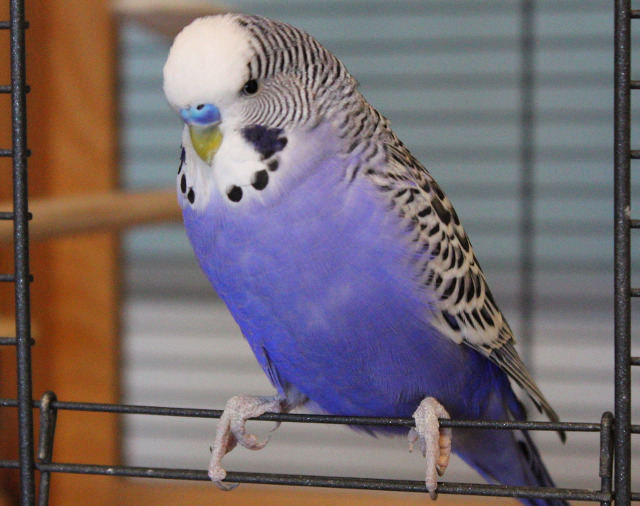budgie: (160, 10, 569, 506)
